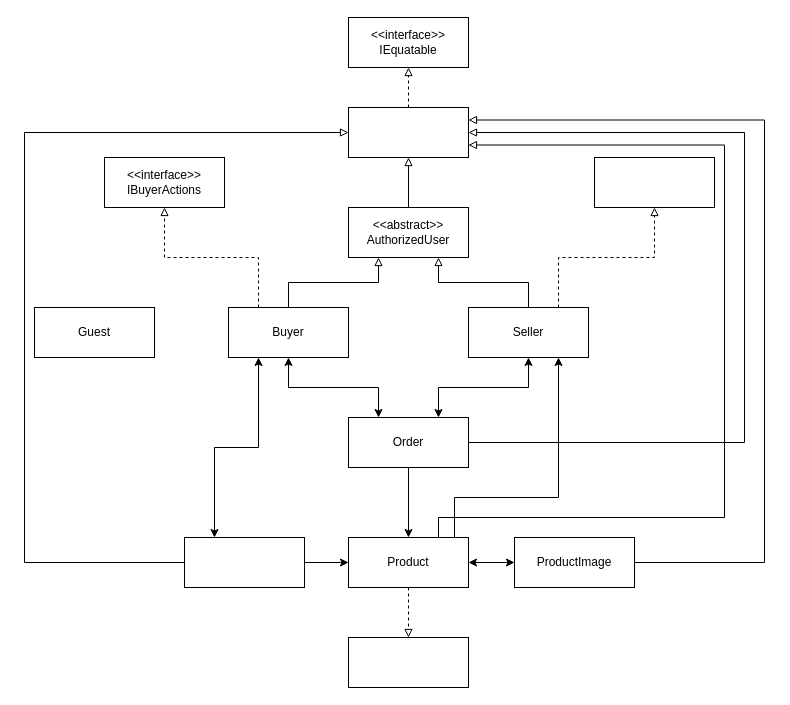
Image size: 790x705. Some labels were removed from this diagram. The shapes that lost their labels are listed below. From the top down, each one's centre as x and y in pixels, then its label:
At [408,132]: "<< abstract >> Entity".
At [654,182]: "<<interface>> ISellerActions".
At [244,562]: "CardItem".
At [408,662]: "<<interface>> IComparable".
